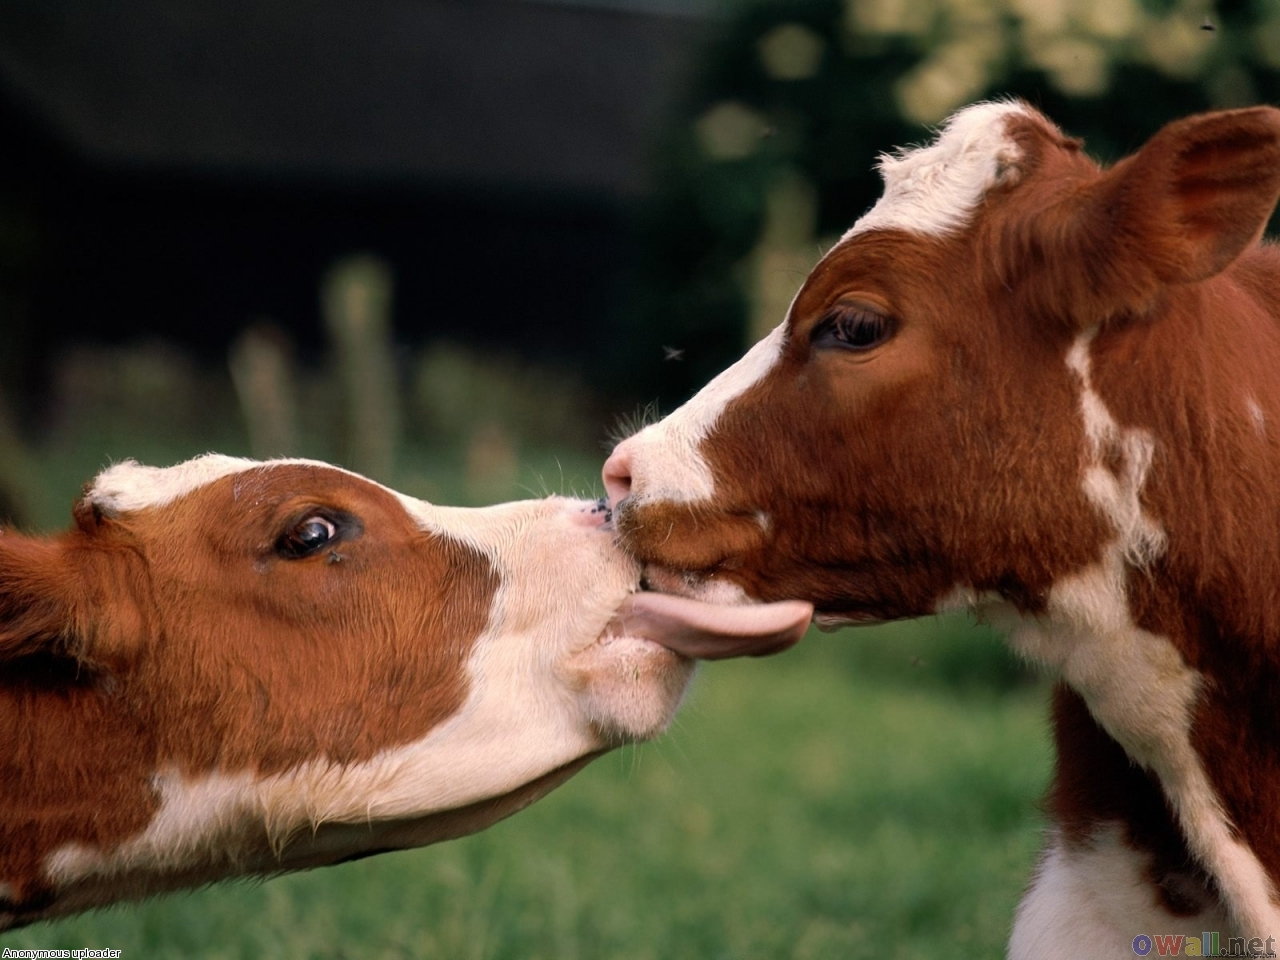cow: (603, 93, 1280, 952), (1, 458, 697, 960)
